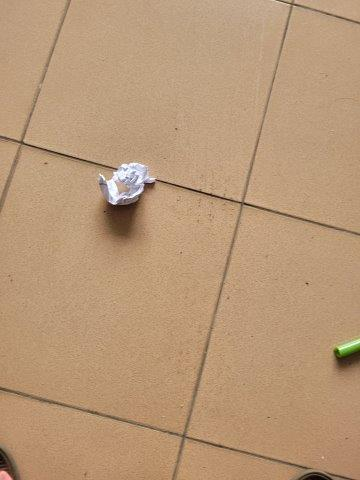kertas: (97, 162, 155, 210)
